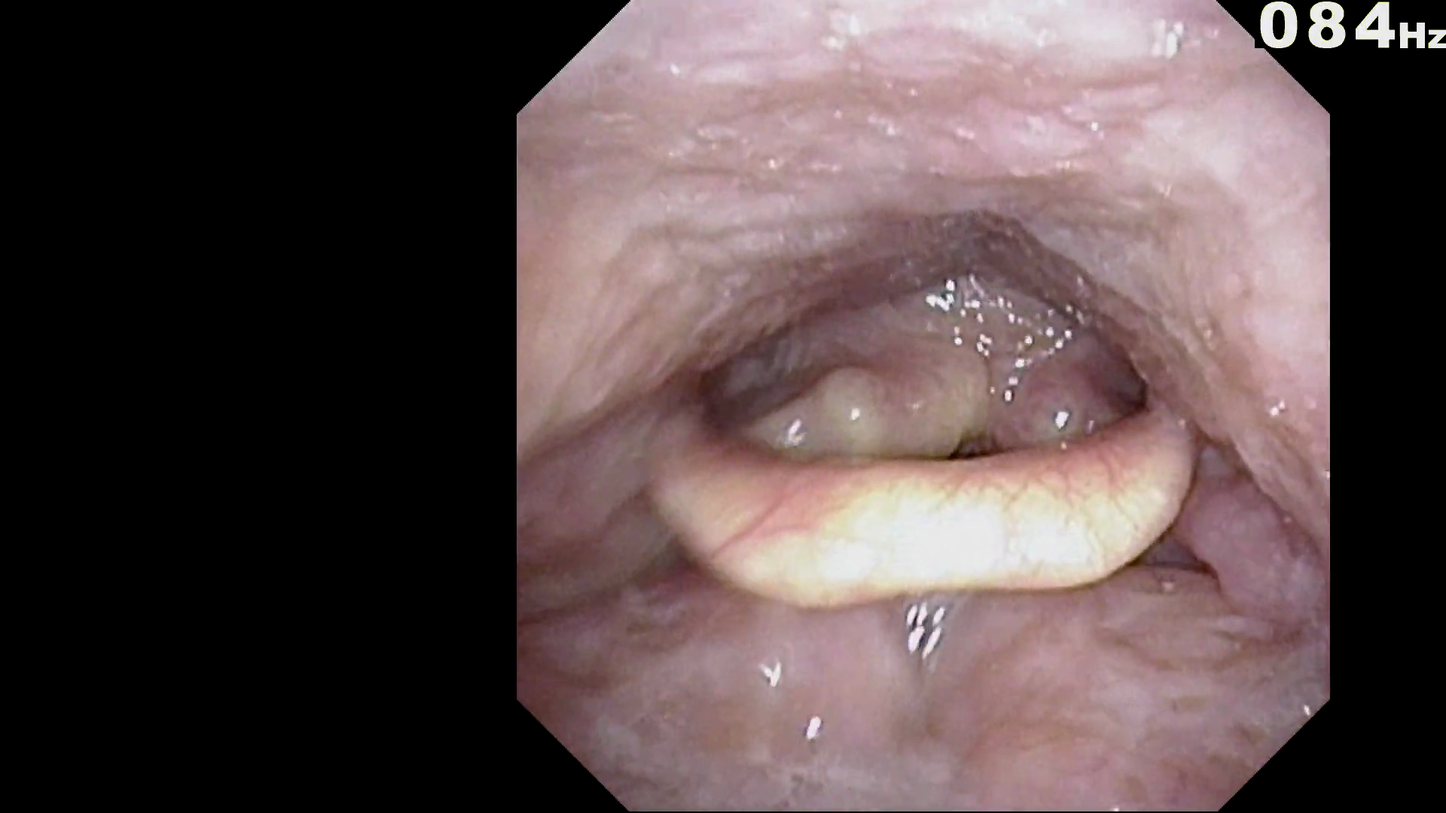epiglottis: (632, 365, 1219, 649)
trachea: (939, 413, 1022, 503)
